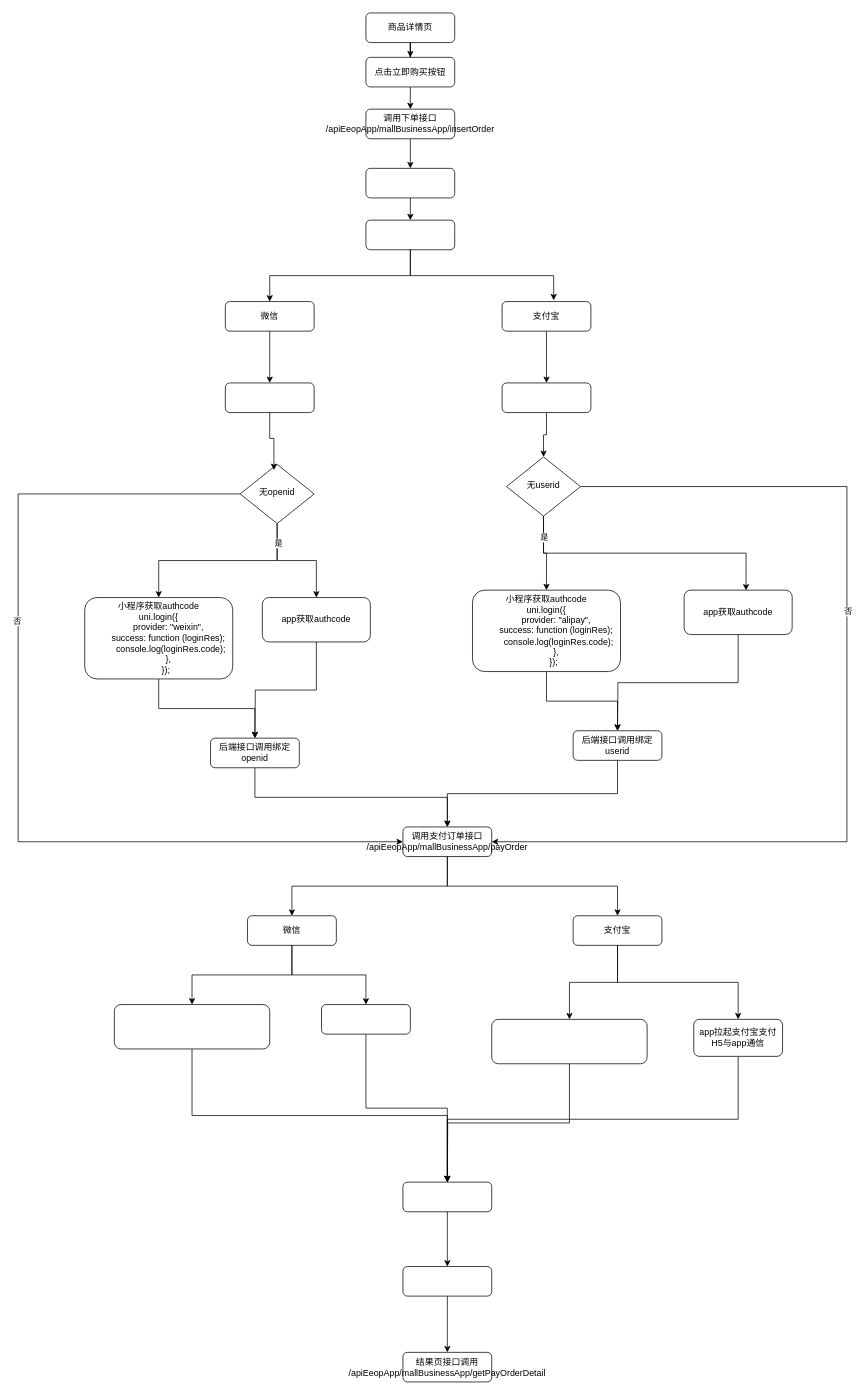
Image size: 866x1395. Some labels were removed from this diagram. Here are the shapes that lost their labels. From the top down, the centre of each, then its label:
the point at 410,183: 拉起支付弹窗
the point at 410,234: 选择支付方式
the point at 269,397: 后端接口调用 查询当前用户openid
the point at 546,397: 后端接口调用 查询当前用户userid
the point at 192,1026: 小程序拉起微信支付 中转页pagesD/openMiniProgram/openCashier
the point at 365,1019: app拉起微信支付 H5与app通信
the point at 569,1041: 小程序拉起支付宝支付 H5与支付宝小程序的通信 openCashier
the point at 447,1196: 支付SDK回调结果
the point at 447,1281: 支付结果页
